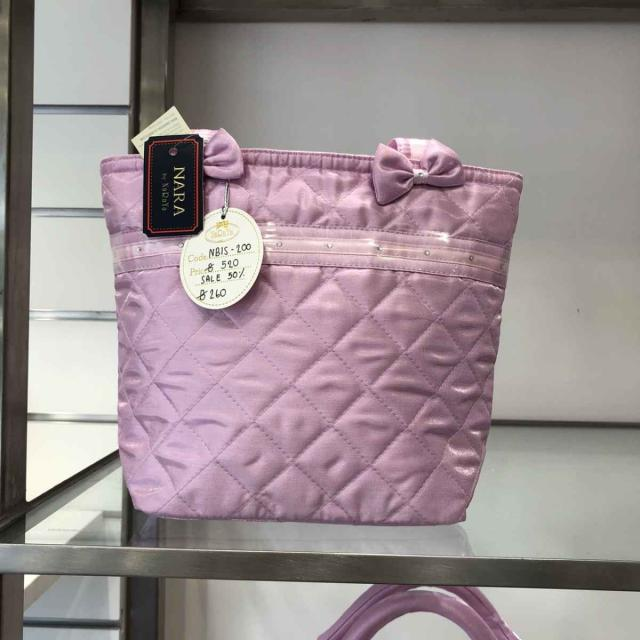Handbag: (76, 105, 534, 536)
